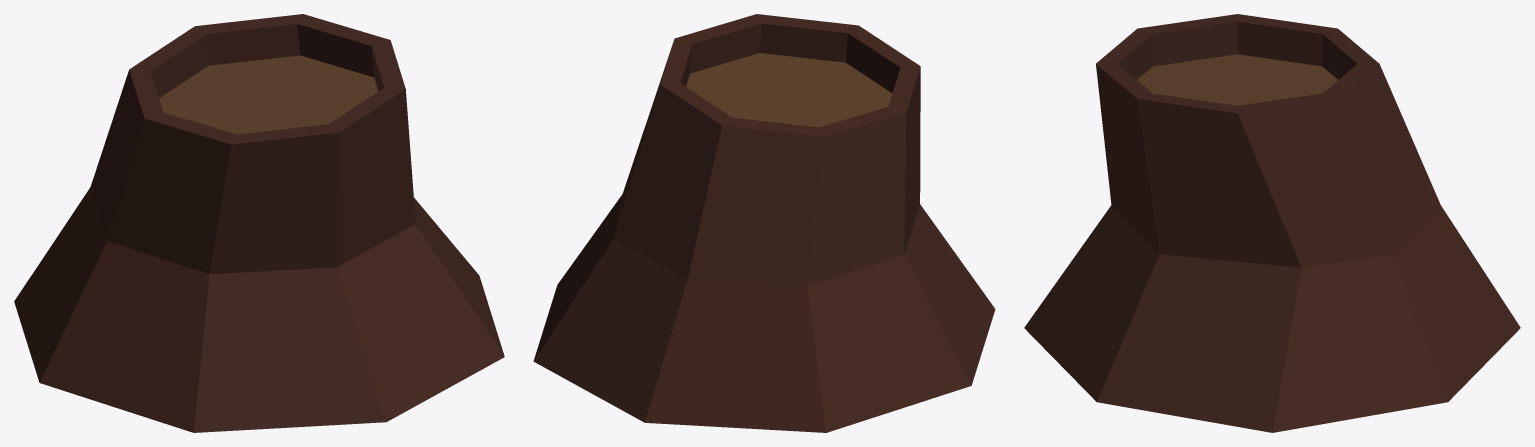
File: Stump.fbx
3 renders of one model, left to right at view 1: azimuth 30°, elevation 25°; view 2: azimuth 150°, elevation 25°; view 3: azimuth 270°, elevation 25°, orthographic. The views are drawn at different scales.
Parts seen in each view (by area): view 1: Stump; view 2: Stump; view 3: Stump.
Boxes of the visible parts, x1,y1,x2,y2 form: Stump: [14, 14, 504, 432]; Stump: [533, 14, 995, 432]; Stump: [1024, 14, 1520, 432].
Size of the model in its own units: 134 by 79.73 by 134.
